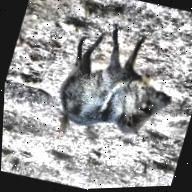boar: (50, 12, 191, 147)
